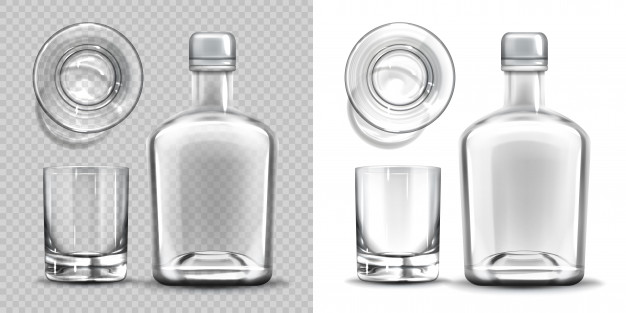glass_bottleww: (146, 3, 286, 313), (456, 6, 595, 313)
